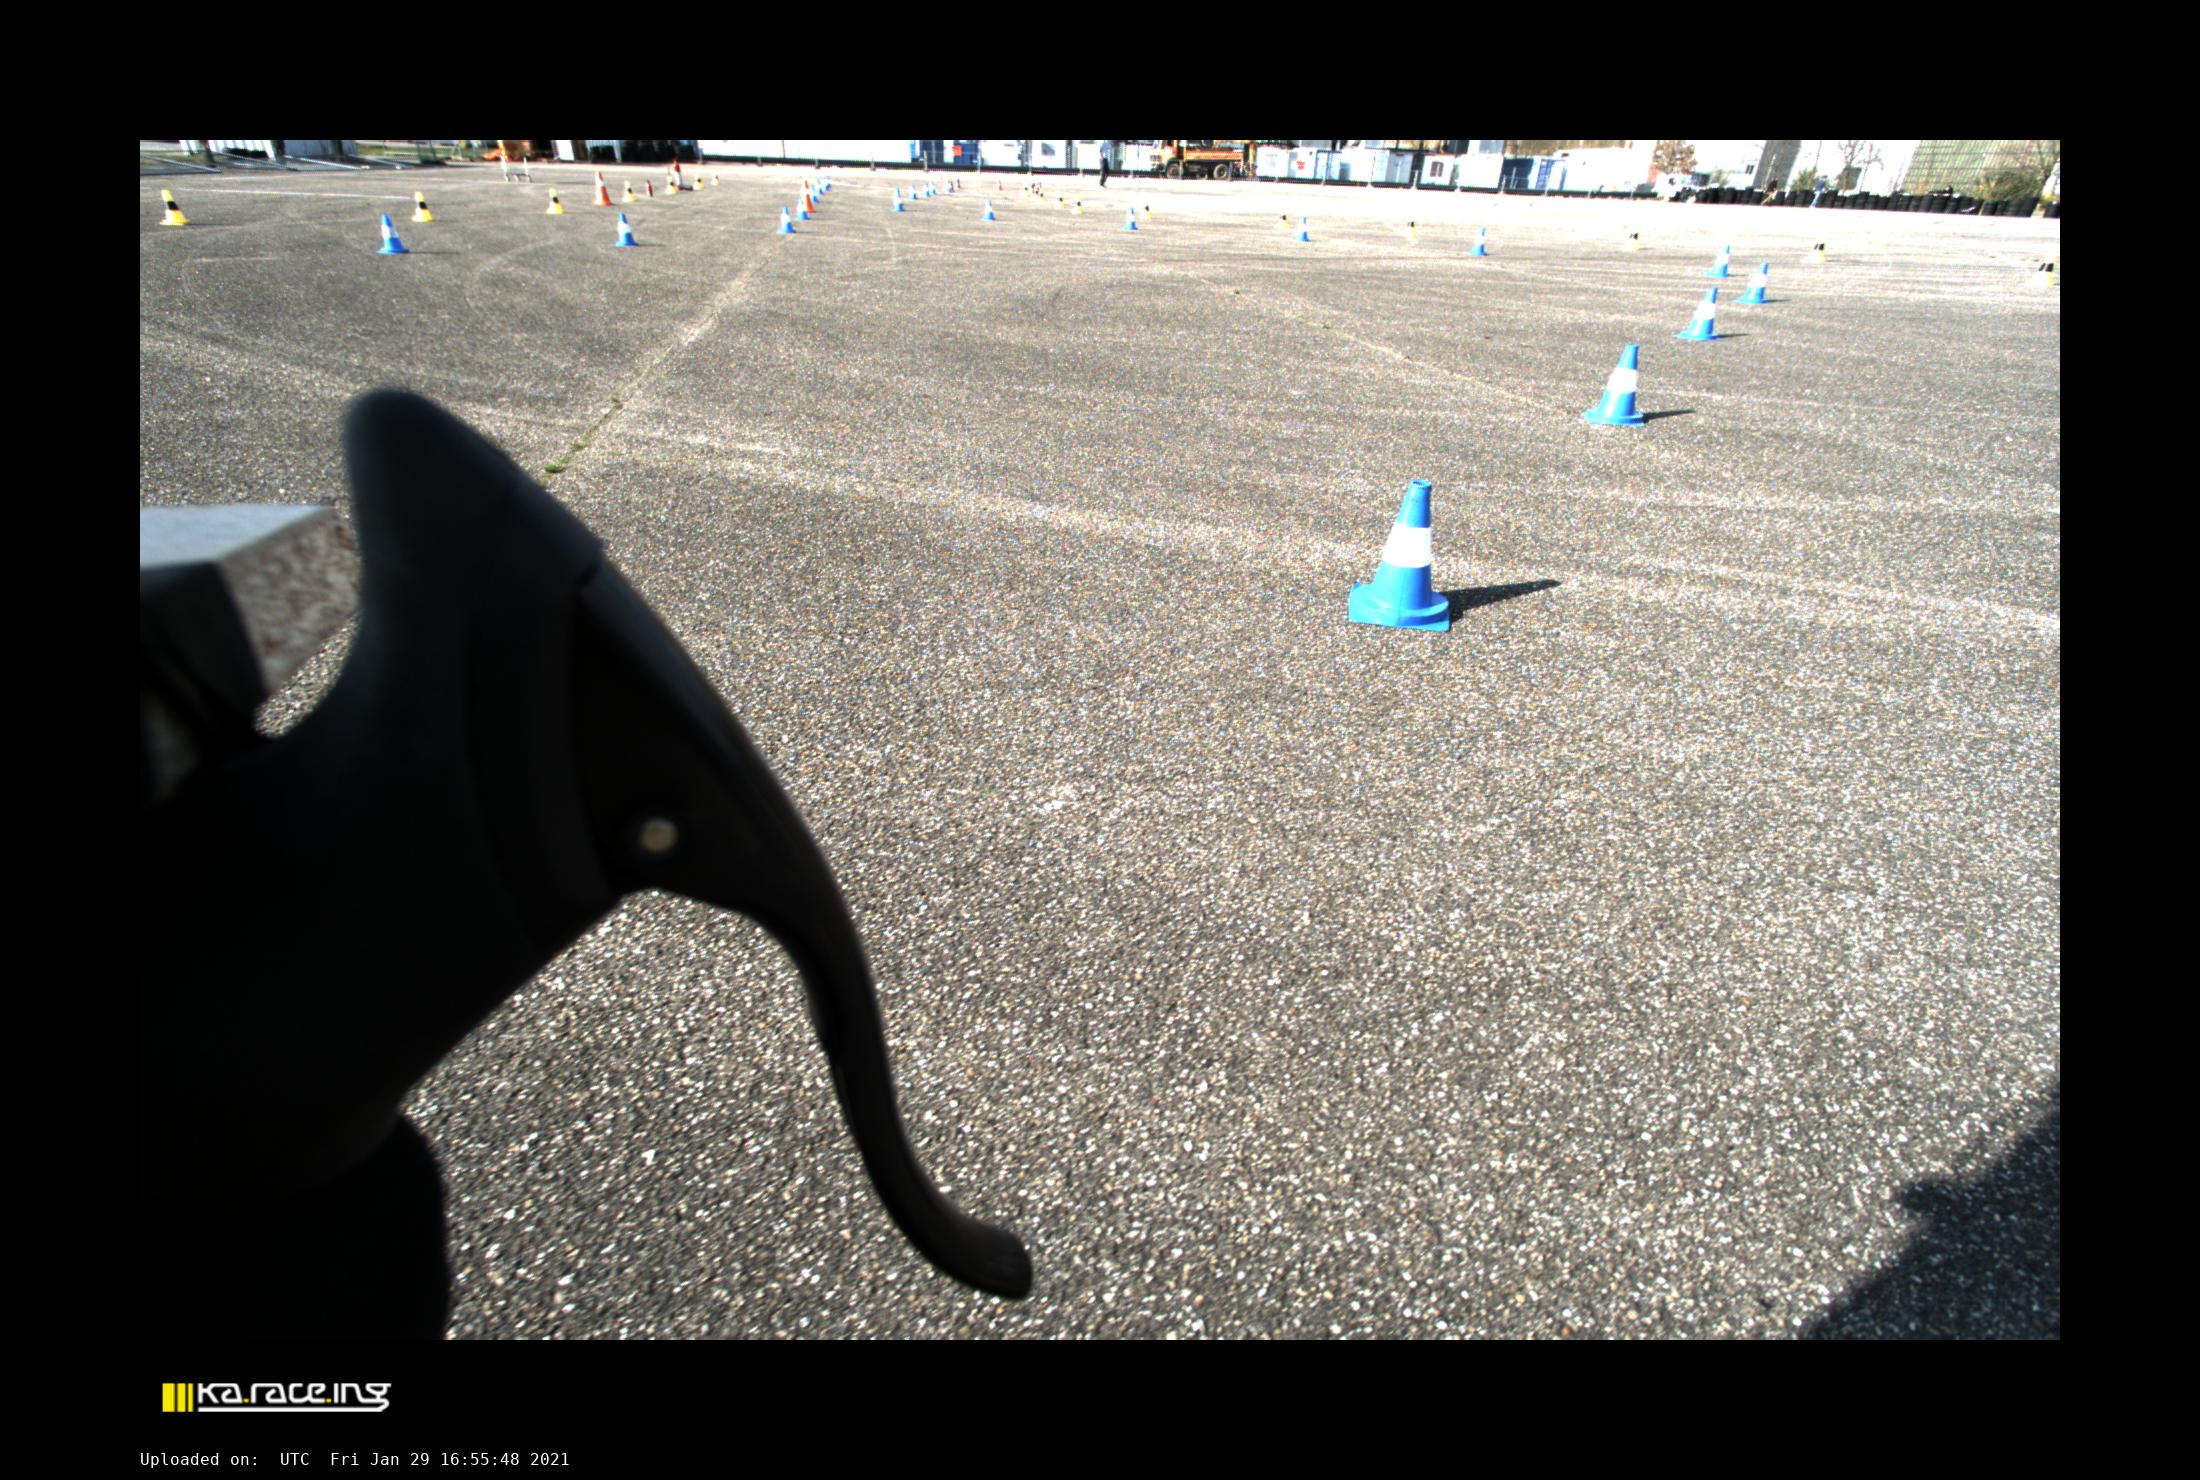blue_cone: (1349, 481, 1450, 631), (1582, 344, 1645, 426), (1675, 287, 1723, 340), (1733, 263, 1771, 304), (377, 215, 410, 254), (1703, 244, 1733, 277), (613, 213, 641, 246), (1468, 226, 1490, 256), (776, 206, 796, 235), (1293, 216, 1313, 243), (793, 198, 811, 220), (1123, 206, 1138, 230), (983, 198, 996, 220), (894, 193, 905, 211), (908, 183, 918, 200), (811, 185, 819, 202), (923, 182, 932, 197), (894, 187, 900, 205), (823, 175, 831, 188), (818, 178, 824, 193), (930, 182, 936, 195), (945, 182, 951, 195)
large_orange_cone: (593, 170, 614, 205), (803, 180, 816, 213)
orange_cone: (950, 180, 956, 193), (955, 178, 961, 190), (998, 178, 1003, 192), (1031, 183, 1036, 193)
yellow_cone: (159, 188, 190, 225), (2032, 249, 2056, 287), (1802, 235, 1827, 263), (411, 192, 434, 221), (1620, 226, 1640, 251), (547, 187, 563, 215), (1402, 213, 1419, 236), (1273, 210, 1288, 230), (623, 180, 636, 202), (664, 177, 676, 193), (1072, 197, 1083, 213), (1141, 202, 1151, 220), (692, 173, 704, 188), (1054, 192, 1064, 208), (710, 172, 720, 185), (1037, 192, 1045, 205), (1022, 183, 1027, 195)
